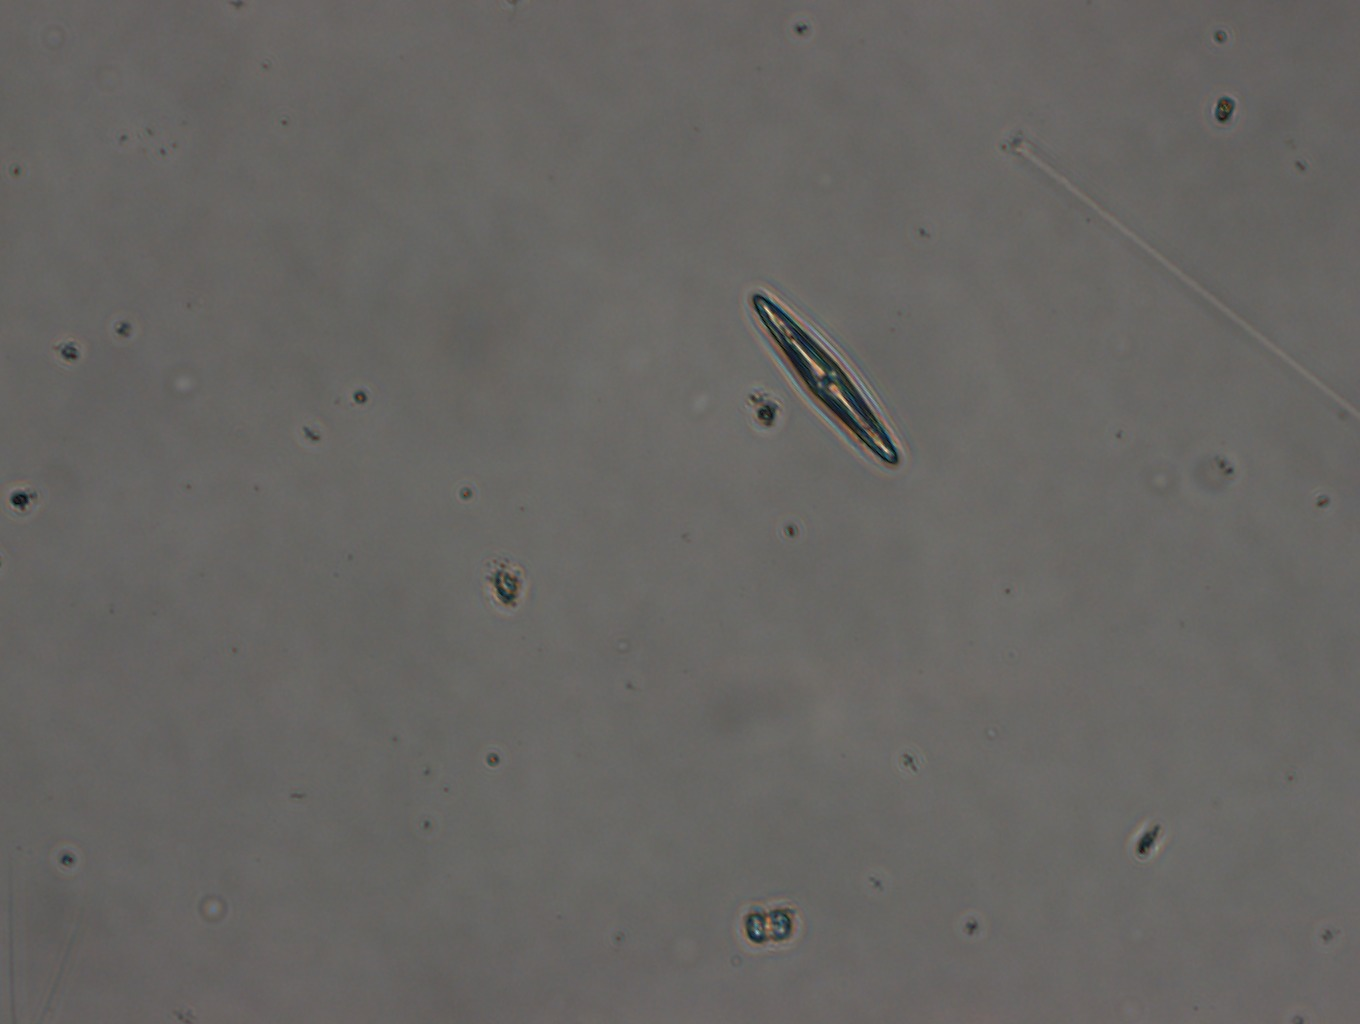navicula: (744, 286, 902, 475)
